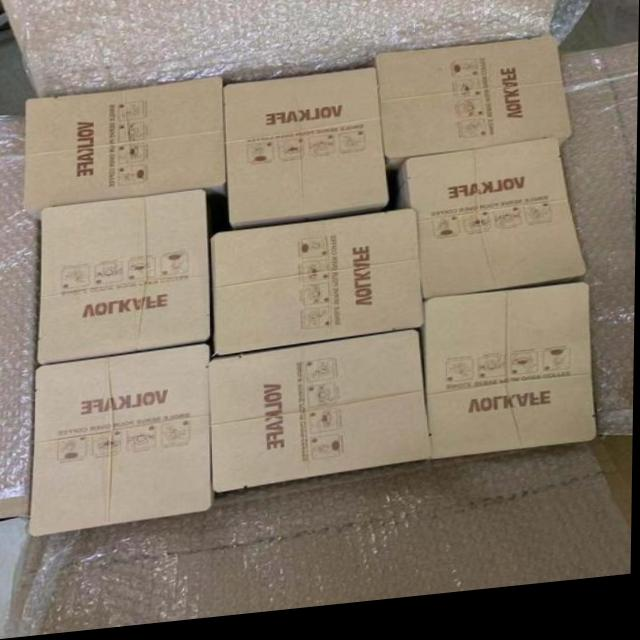box: (211, 338, 432, 499), (30, 349, 215, 537), (397, 149, 589, 311), (212, 217, 424, 361), (422, 295, 598, 468), (37, 193, 211, 366), (24, 80, 228, 223), (374, 48, 574, 181), (224, 76, 388, 235)
